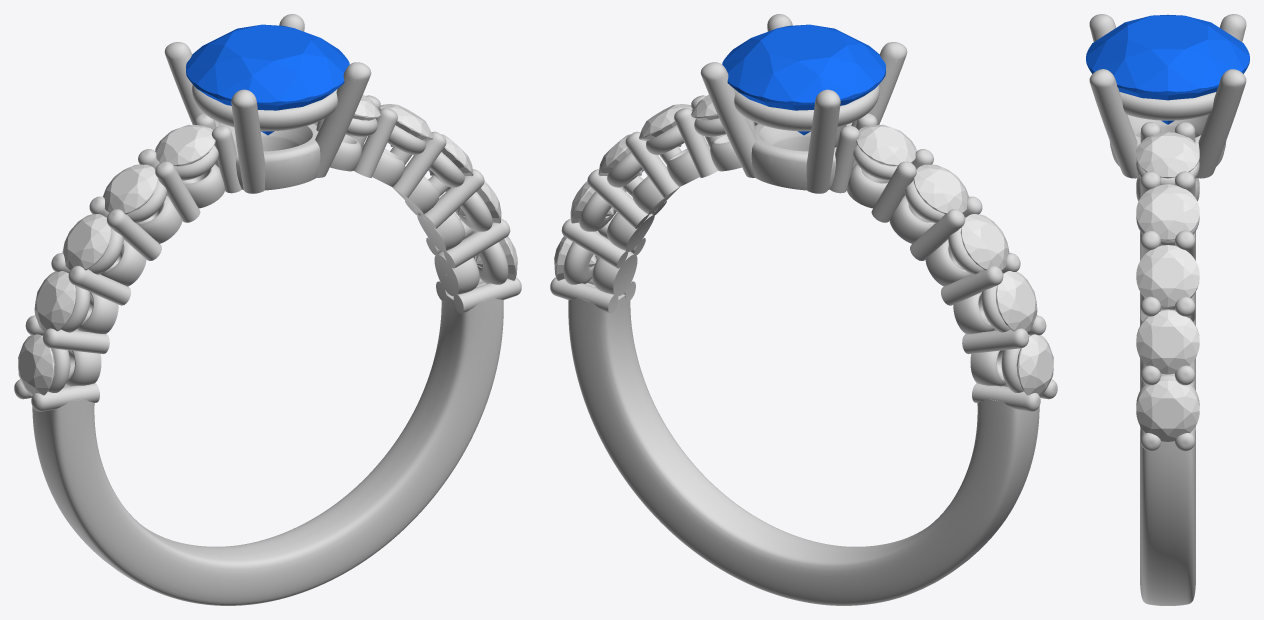
File: bluesapphire-round-platinum-4prong-straightband-11stone.glb
The picture shows the model from 3 angles, left to right: view 1: azimuth 30°, elevation 25°; view 2: azimuth 150°, elevation 25°; view 3: azimuth 270°, elevation 25°; orthographic projection.
Visible parts, largest first — view 1: metal, stone, side.004, side.006, side.002, side.008, side, side.007; view 2: metal, stone, side.004, side.006, side.002, side.008, side, side.007; view 3: metal, stone, side.003, side.001, side.005, side.007, side.009.
Part boxes in pixels (box(x1,y1,x2,y2)): metal: box(14, 14, 521, 605); stone: box(186, 24, 349, 135); side.004: box(62, 214, 111, 270); side.006: box(103, 164, 158, 214); side.002: box(34, 271, 75, 331); side.008: box(155, 124, 215, 166); side: box(18, 334, 55, 396); side.007: box(379, 104, 432, 146); metal: box(550, 14, 1057, 605); stone: box(722, 24, 885, 135); side.004: box(960, 214, 1009, 270); side.006: box(913, 164, 968, 214); side.002: box(996, 271, 1037, 331); side.008: box(856, 124, 916, 166); side: box(1016, 334, 1053, 396); side.007: box(639, 104, 692, 146); metal: box(1089, 14, 1246, 605); stone: box(1086, 14, 1249, 124); side.003: box(1136, 310, 1199, 374); side.001: box(1136, 380, 1199, 441); side.005: box(1136, 245, 1199, 306); side.007: box(1136, 184, 1199, 240); side.009: box(1136, 131, 1199, 178).
Size of the model in its own units: 22.03 by 23.82 by 6.44.
